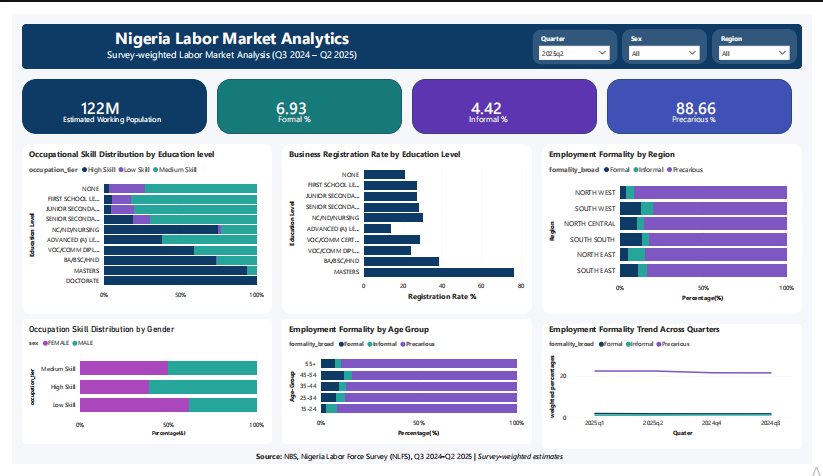

Layout of this report page (visuals, bound fields, positions):
{"tool":"powerbi","page":{"name":"Page 1","canvas":[1600,900],"ordinal":0},"visuals":[{"type":"shape","box":[20,20,1560,90],"z":0},{"type":"textbox","box":[90.4,19.9,703,79.5],"z":1000},{"type":"shape","box":[1041,30.7,170,70],"z":2000},{"type":"slicer","fields":{"Values":["clean_nfls.quarter"]},"box":[1045,35,160,60],"z":3000},{"type":"shape","box":[1220,30,170,70],"z":4000},{"type":"slicer","fields":{"Values":["clean_nfls.sex"]},"box":[1225,35,160,60],"z":5000},{"type":"shape","box":[1400,30,170,70],"z":6000},{"type":"slicer","fields":{"Values":["clean_nfls.geopolitical_zone"]},"box":[1405,35,160,60],"z":7000},{"type":"shape","box":[20,130,370,110],"z":8000},{"type":"cardVisual","fields":{"Data":["clean_nfls.working age population"]},"box":[110,140,260,90],"z":9000},{"type":"shape","box":[410,130,370,110],"z":10000},{"type":"cardVisual","fields":{"Data":["clean_nfls.Weighted Formal %"]},"box":[500,140,260,90],"z":11000},{"type":"textbox","box":[527.7,195.2,211.4,30.7],"z":12000},{"type":"shape","box":[800,130,370,110],"z":13000},{"type":"cardVisual","fields":{"Data":["clean_nfls.Weighted Informal %"]},"box":[890,140,260,90],"z":14000},{"type":"textbox","box":[889.2,195.2,130.1,30.7],"z":15000},{"type":"shape","box":[1190,130,370,110],"z":16000},{"type":"cardVisual","fields":{"Data":["clean_nfls.Weighted Precarious %"]},"box":[1300,140,260,90],"z":17000},{"type":"textbox","box":[1299.4,195.2,130.1,30.7],"z":18000},{"type":"textbox","box":[90.4,195.2,220.5,30.7],"z":19000},{"type":"shape","box":[20,260,500,340],"z":20000},{"type":"shape","box":[540,260,500,340],"z":21000},{"type":"shape","box":[1060,260,520,340],"z":22000},{"type":"shape","box":[20,610,500,250],"z":23000},{"type":"shape","box":[540,610,500,250],"z":24000},{"type":"shape","box":[1060,620,520,250],"z":25000},{"type":"hundredPercentStackedBarChart","title":"Occupational Skill Distribution by Age Group","fields":{"Category":["clean_nfls.age_group"],"Y":["clean_nfls.Weighted %"],"Series":["clean_nfls.occupation_tier"]},"box":[550,620,480,230],"z":26000},{"type":"textbox","box":[442.8,869.3,706.6,30.7],"z":27000},{"type":"hundredPercentStackedBarChart","title":"Occupational Skill Distribution by Education level","fields":{"Category":["clean_nfls.highest_education"],"Series":["clean_nfls.occupation_tier"],"Y":["clean_nfls.Weighted Count"]},"box":[30,270,480,310],"z":28000},{"type":"hundredPercentStackedBarChart","title":"Occupational Skill Distribution by Region","fields":{"Category":["clean_nfls.geopolitical_zone"],"Y":["clean_nfls.Weighted Count"],"Series":["clean_nfls.occupation_tier"]},"box":[1070,270,500,310],"z":29000},{"type":"clusteredBarChart","title":"Business Registration Rate  by Education Level","fields":{"Category":["clean_nfls.highest_education"],"Y":["clean_nfls.Weighted Registration Rate %"]},"box":[550,270,480,310],"z":30000},{"type":"lineChart","title":"Employment Formality Trend Across Quarters","fields":{"Category":["clean_nfls.quarter"],"Series":["clean_nfls.formality_broad"],"Y":["clean_nfls.Weighted %"]},"box":[1070,620,500,230],"z":31000},{"type":"hundredPercentStackedBarChart","title":"Occupation Skill Distribution by Gender","fields":{"Category":["clean_nfls.occupation_tier"],"Y":["clean_nfls.Weighted Count"],"Series":["clean_nfls.sex"]},"box":[30,620,480,230],"z":32000}]}

Visuals, with their boxes in screenshot pixels (x1, y1, x2, y2), scaled from the page's 1600x900 canvas onto the 823x476 screenshot:
shape: x1=10 y1=11 x2=813 y2=58
textbox: x1=46 y1=11 x2=408 y2=53
shape: x1=535 y1=16 x2=623 y2=53
slicer - clean_nfls.quarter: x1=538 y1=19 x2=620 y2=50
shape: x1=628 y1=16 x2=715 y2=53
slicer - clean_nfls.sex: x1=630 y1=19 x2=712 y2=50
shape: x1=720 y1=16 x2=808 y2=53
slicer - clean_nfls.geopolitical_zone: x1=723 y1=19 x2=805 y2=50
shape: x1=10 y1=69 x2=201 y2=127
cardVisual - clean_nfls.working age population: x1=57 y1=74 x2=190 y2=122
shape: x1=211 y1=69 x2=401 y2=127
cardVisual - clean_nfls.Weighted Formal %: x1=257 y1=74 x2=391 y2=122
textbox: x1=271 y1=103 x2=380 y2=119
shape: x1=412 y1=69 x2=602 y2=127
cardVisual - clean_nfls.Weighted Informal %: x1=458 y1=74 x2=592 y2=122
textbox: x1=457 y1=103 x2=524 y2=119
shape: x1=612 y1=69 x2=802 y2=127
cardVisual - clean_nfls.Weighted Precarious %: x1=669 y1=74 x2=802 y2=122
textbox: x1=668 y1=103 x2=735 y2=119
textbox: x1=46 y1=103 x2=160 y2=119
shape: x1=10 y1=138 x2=267 y2=317
shape: x1=278 y1=138 x2=535 y2=317
shape: x1=545 y1=138 x2=813 y2=317
shape: x1=10 y1=323 x2=267 y2=455
shape: x1=278 y1=323 x2=535 y2=455
shape: x1=545 y1=328 x2=813 y2=460
"Occupational Skill Distribution by Age Group" hundredPercentStackedBarChart: x1=283 y1=328 x2=530 y2=450
textbox: x1=228 y1=460 x2=591 y2=475
"Occupational Skill Distribution by Education level" hundredPercentStackedBarChart: x1=15 y1=143 x2=262 y2=307
"Occupational Skill Distribution by Region" hundredPercentStackedBarChart: x1=550 y1=143 x2=808 y2=307
"Business Registration Rate  by Education Level" clusteredBarChart: x1=283 y1=143 x2=530 y2=307
"Employment Formality Trend Across Quarters" lineChart: x1=550 y1=328 x2=808 y2=450
"Occupation Skill Distribution by Gender" hundredPercentStackedBarChart: x1=15 y1=328 x2=262 y2=450
